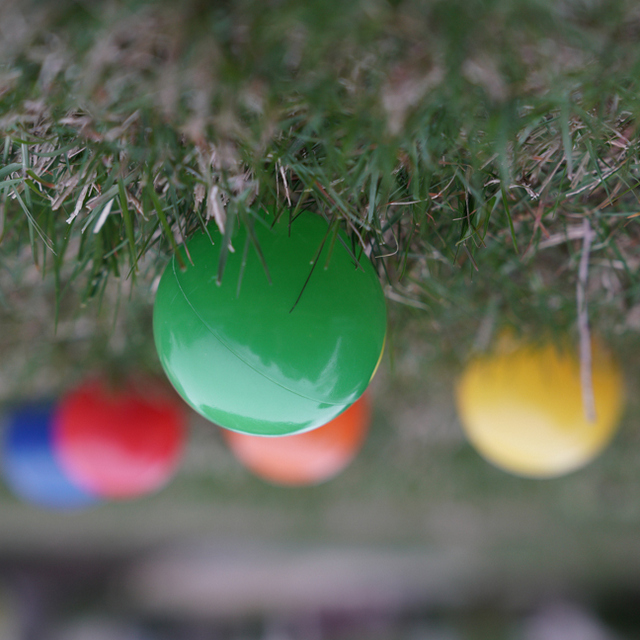Ball: (153, 203, 387, 438)
